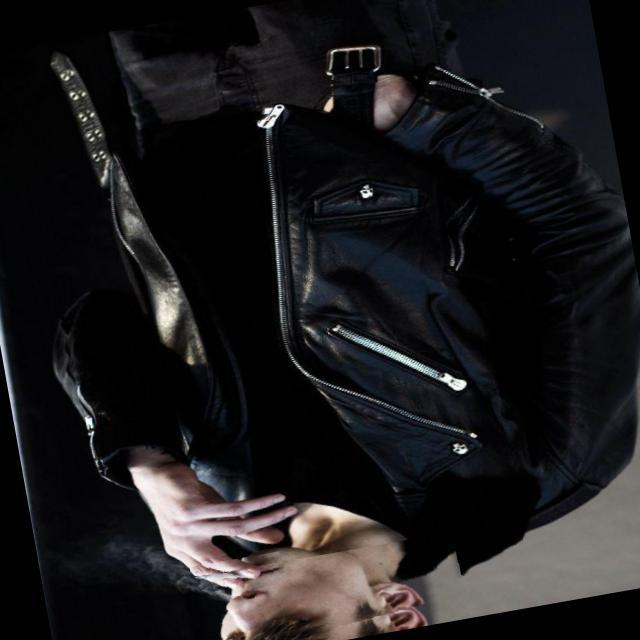cigarette: (189, 551, 286, 600)
